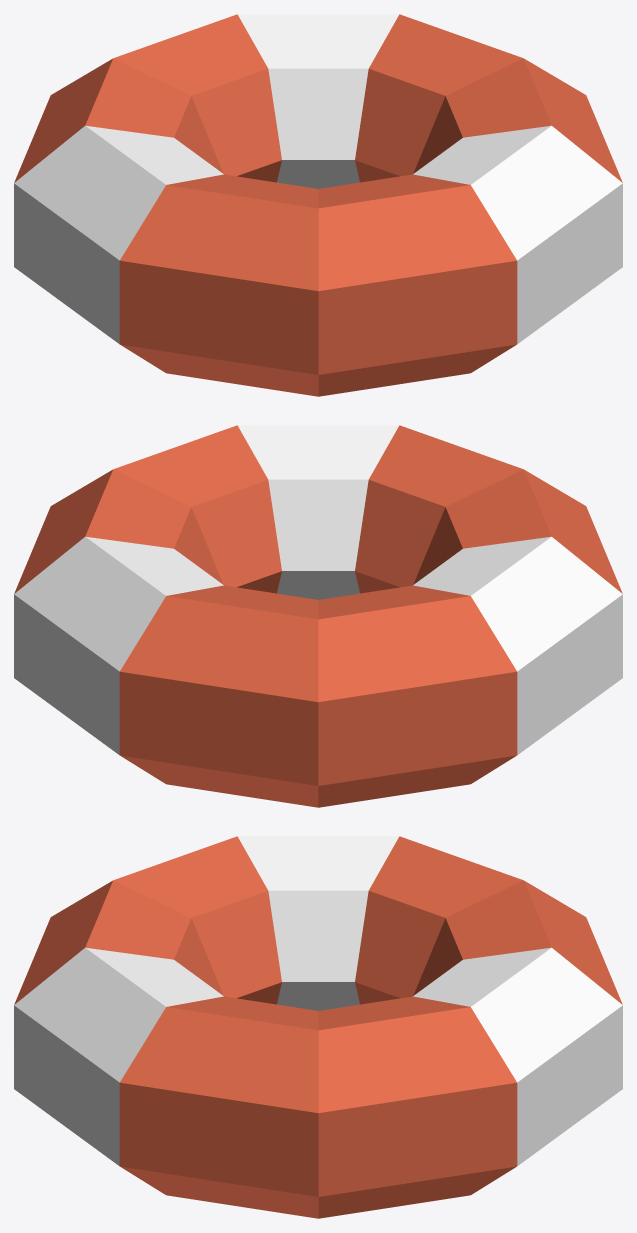
Rendered from livboj.fbx.
The picture shows the model from 3 angles, top to bottom: view 1: azimuth 30°, elevation 25°; view 2: azimuth 150°, elevation 25°; view 3: azimuth 270°, elevation 25°; orthographic projection.
Parts seen in each view (by area): view 1: pTorus1; view 2: pTorus1; view 3: pTorus1.
Boxes of the visible parts, x1=… form: pTorus1: x1=14, y1=14, x2=622, y2=396; pTorus1: x1=14, y1=425, x2=622, y2=807; pTorus1: x1=14, y1=836, x2=622, y2=1218.
Size of the model in its own units: 6.3 by 2.18 by 6.39.
